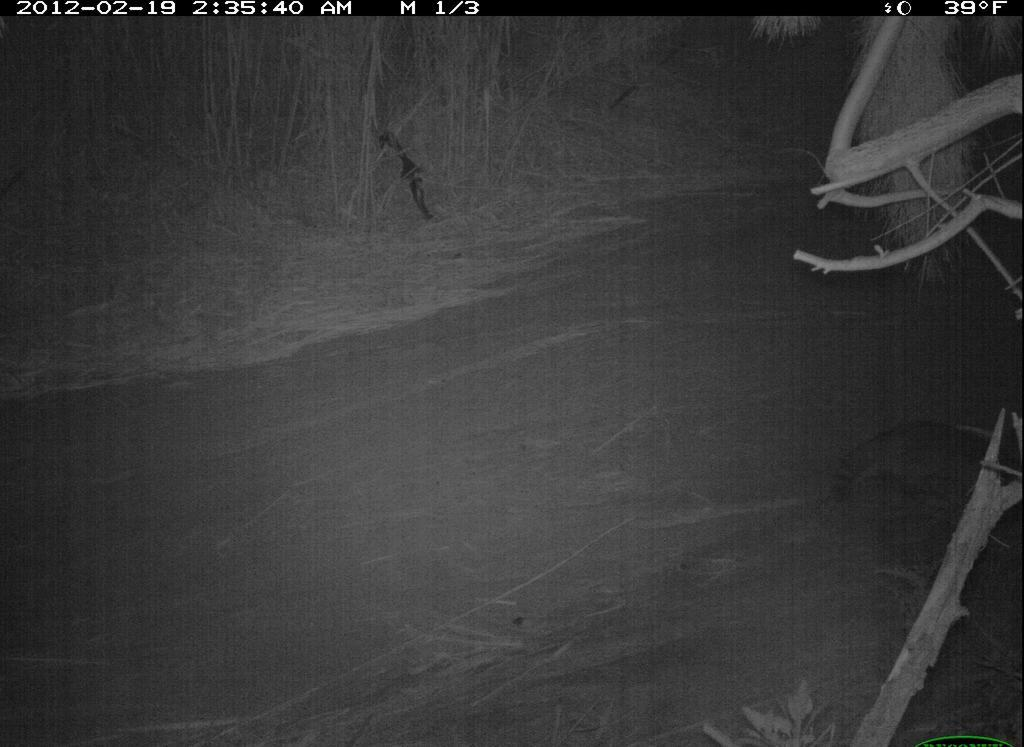raccoon: (829, 414, 1016, 521)
